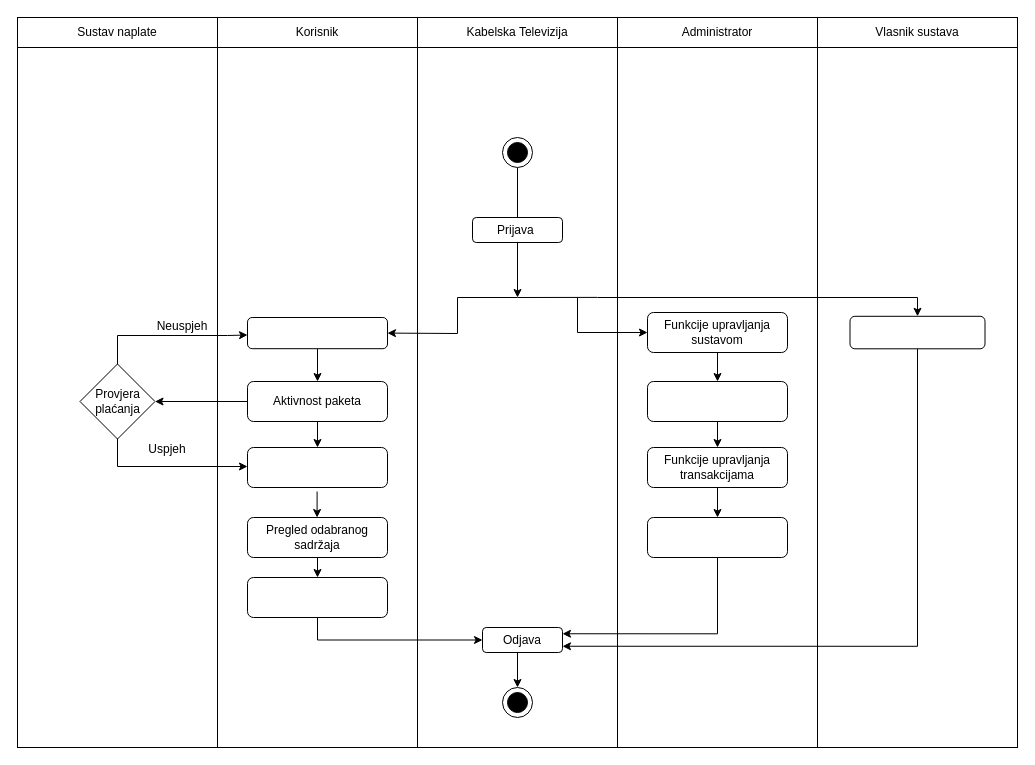
The diagram is 1035 pixels wide and 765 high, and some of its shapes have lost their labels. The shapes that lost their labels are listed below. From the top down, each one's centre as x and y in pixels, then its label:
point (317, 332): Pristup platformi
point (917, 332): Pregled izvještaja
point (717, 401): Funkcije upravljanja korisnicima
point (317, 467): Pretraživanje dostupnog sadržaja
point (717, 537): Funkcije upravljanja recenzijama
point (317, 597): Recenzija sadržaja
